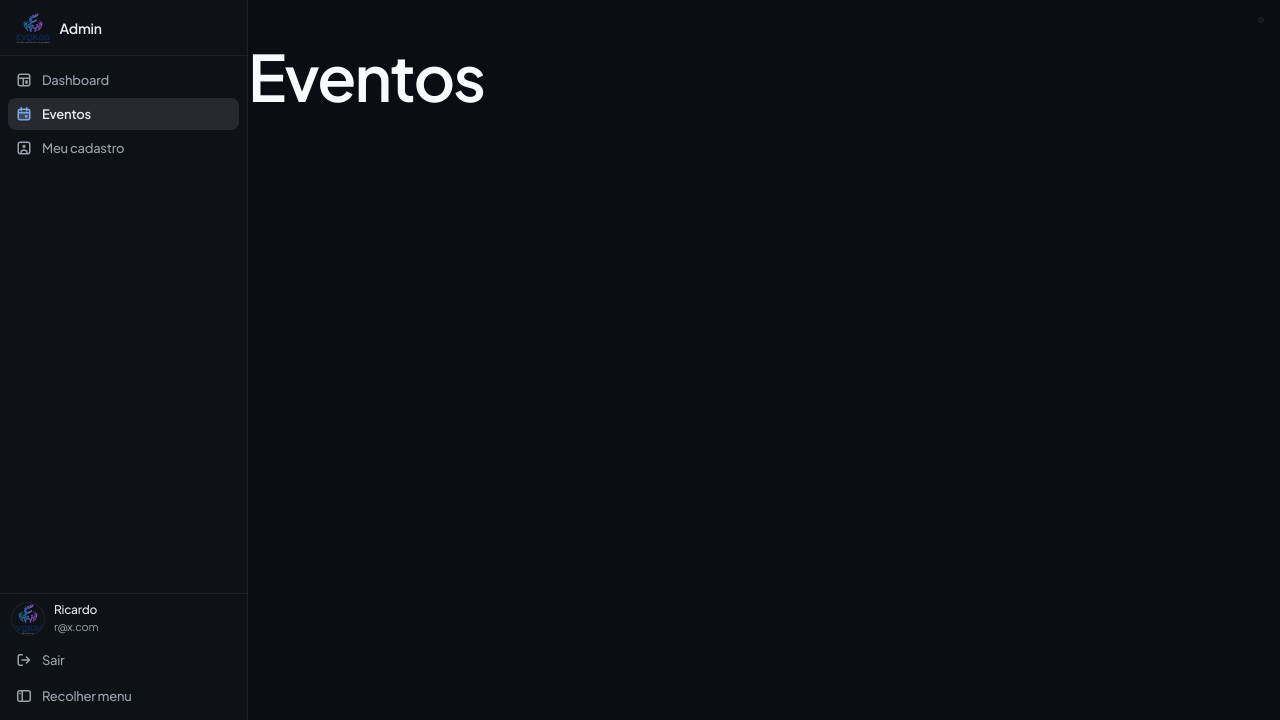
AdminLayout (V12a): casca com tokens, mesma regra de acesso › recolher vira trilho (itens só com ícone, mas com nome acessível) e expandir volta
This screenshot has width=1280, height=720.
Click the button "Recolher menu".
click(124, 696)  # box x1=8 y1=680 x2=239 y2=712
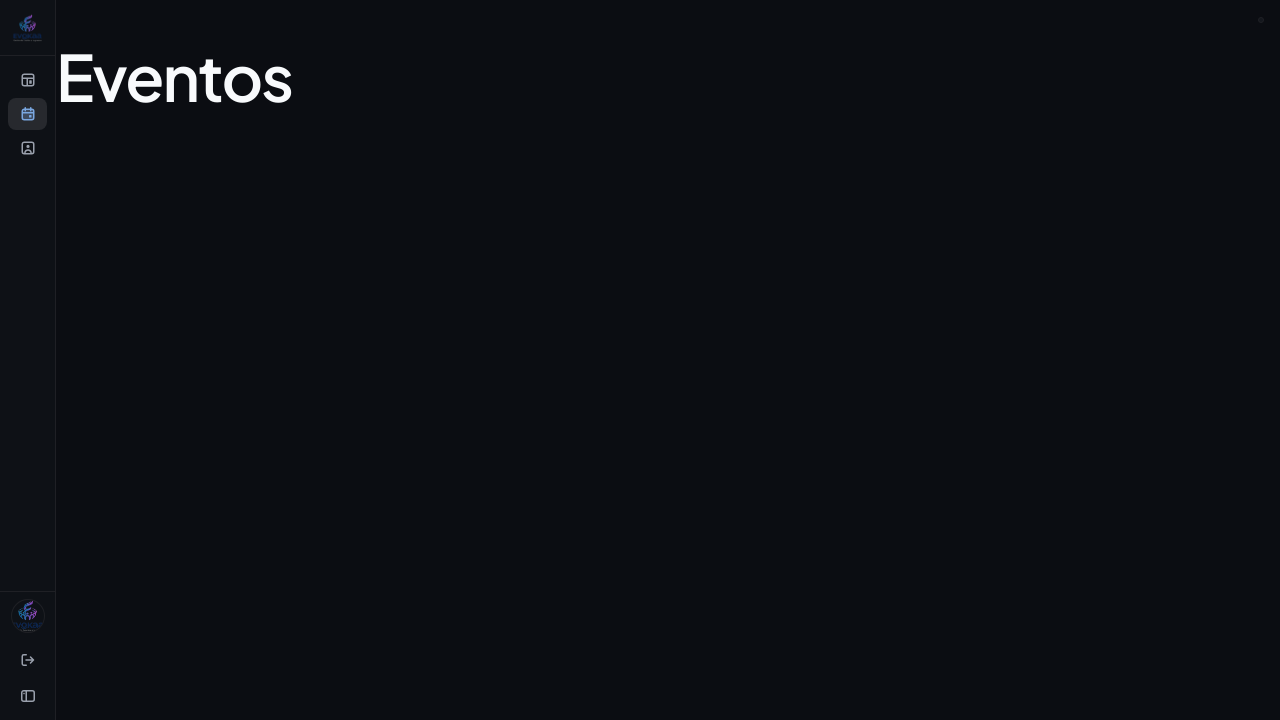
Result: the button named "Expandir menu" is collapsed
Result: the link named "Eventos" is empty at x1=8 y1=98 x2=47 y2=130
Click the button named "Expandir menu".
click(28, 696)  # box x1=8 y1=680 x2=47 y2=712
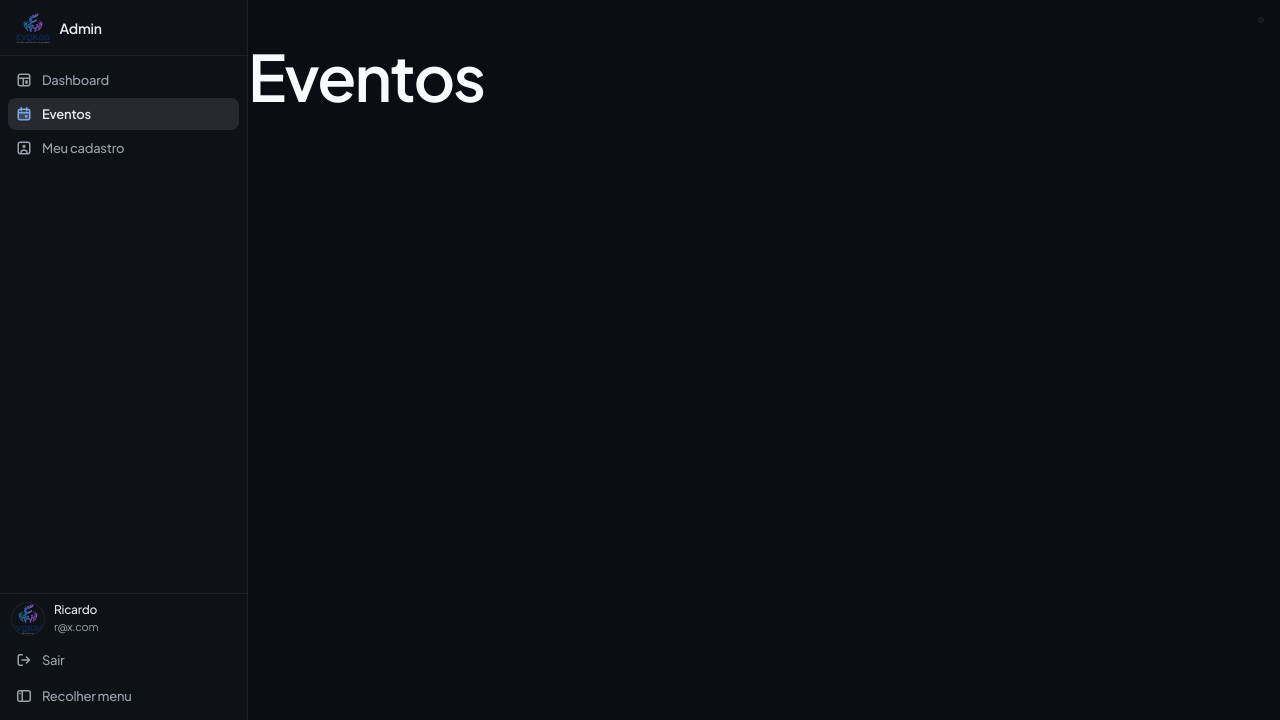
Result: the button "Recolher menu" is expanded at x1=8 y1=680 x2=239 y2=712
